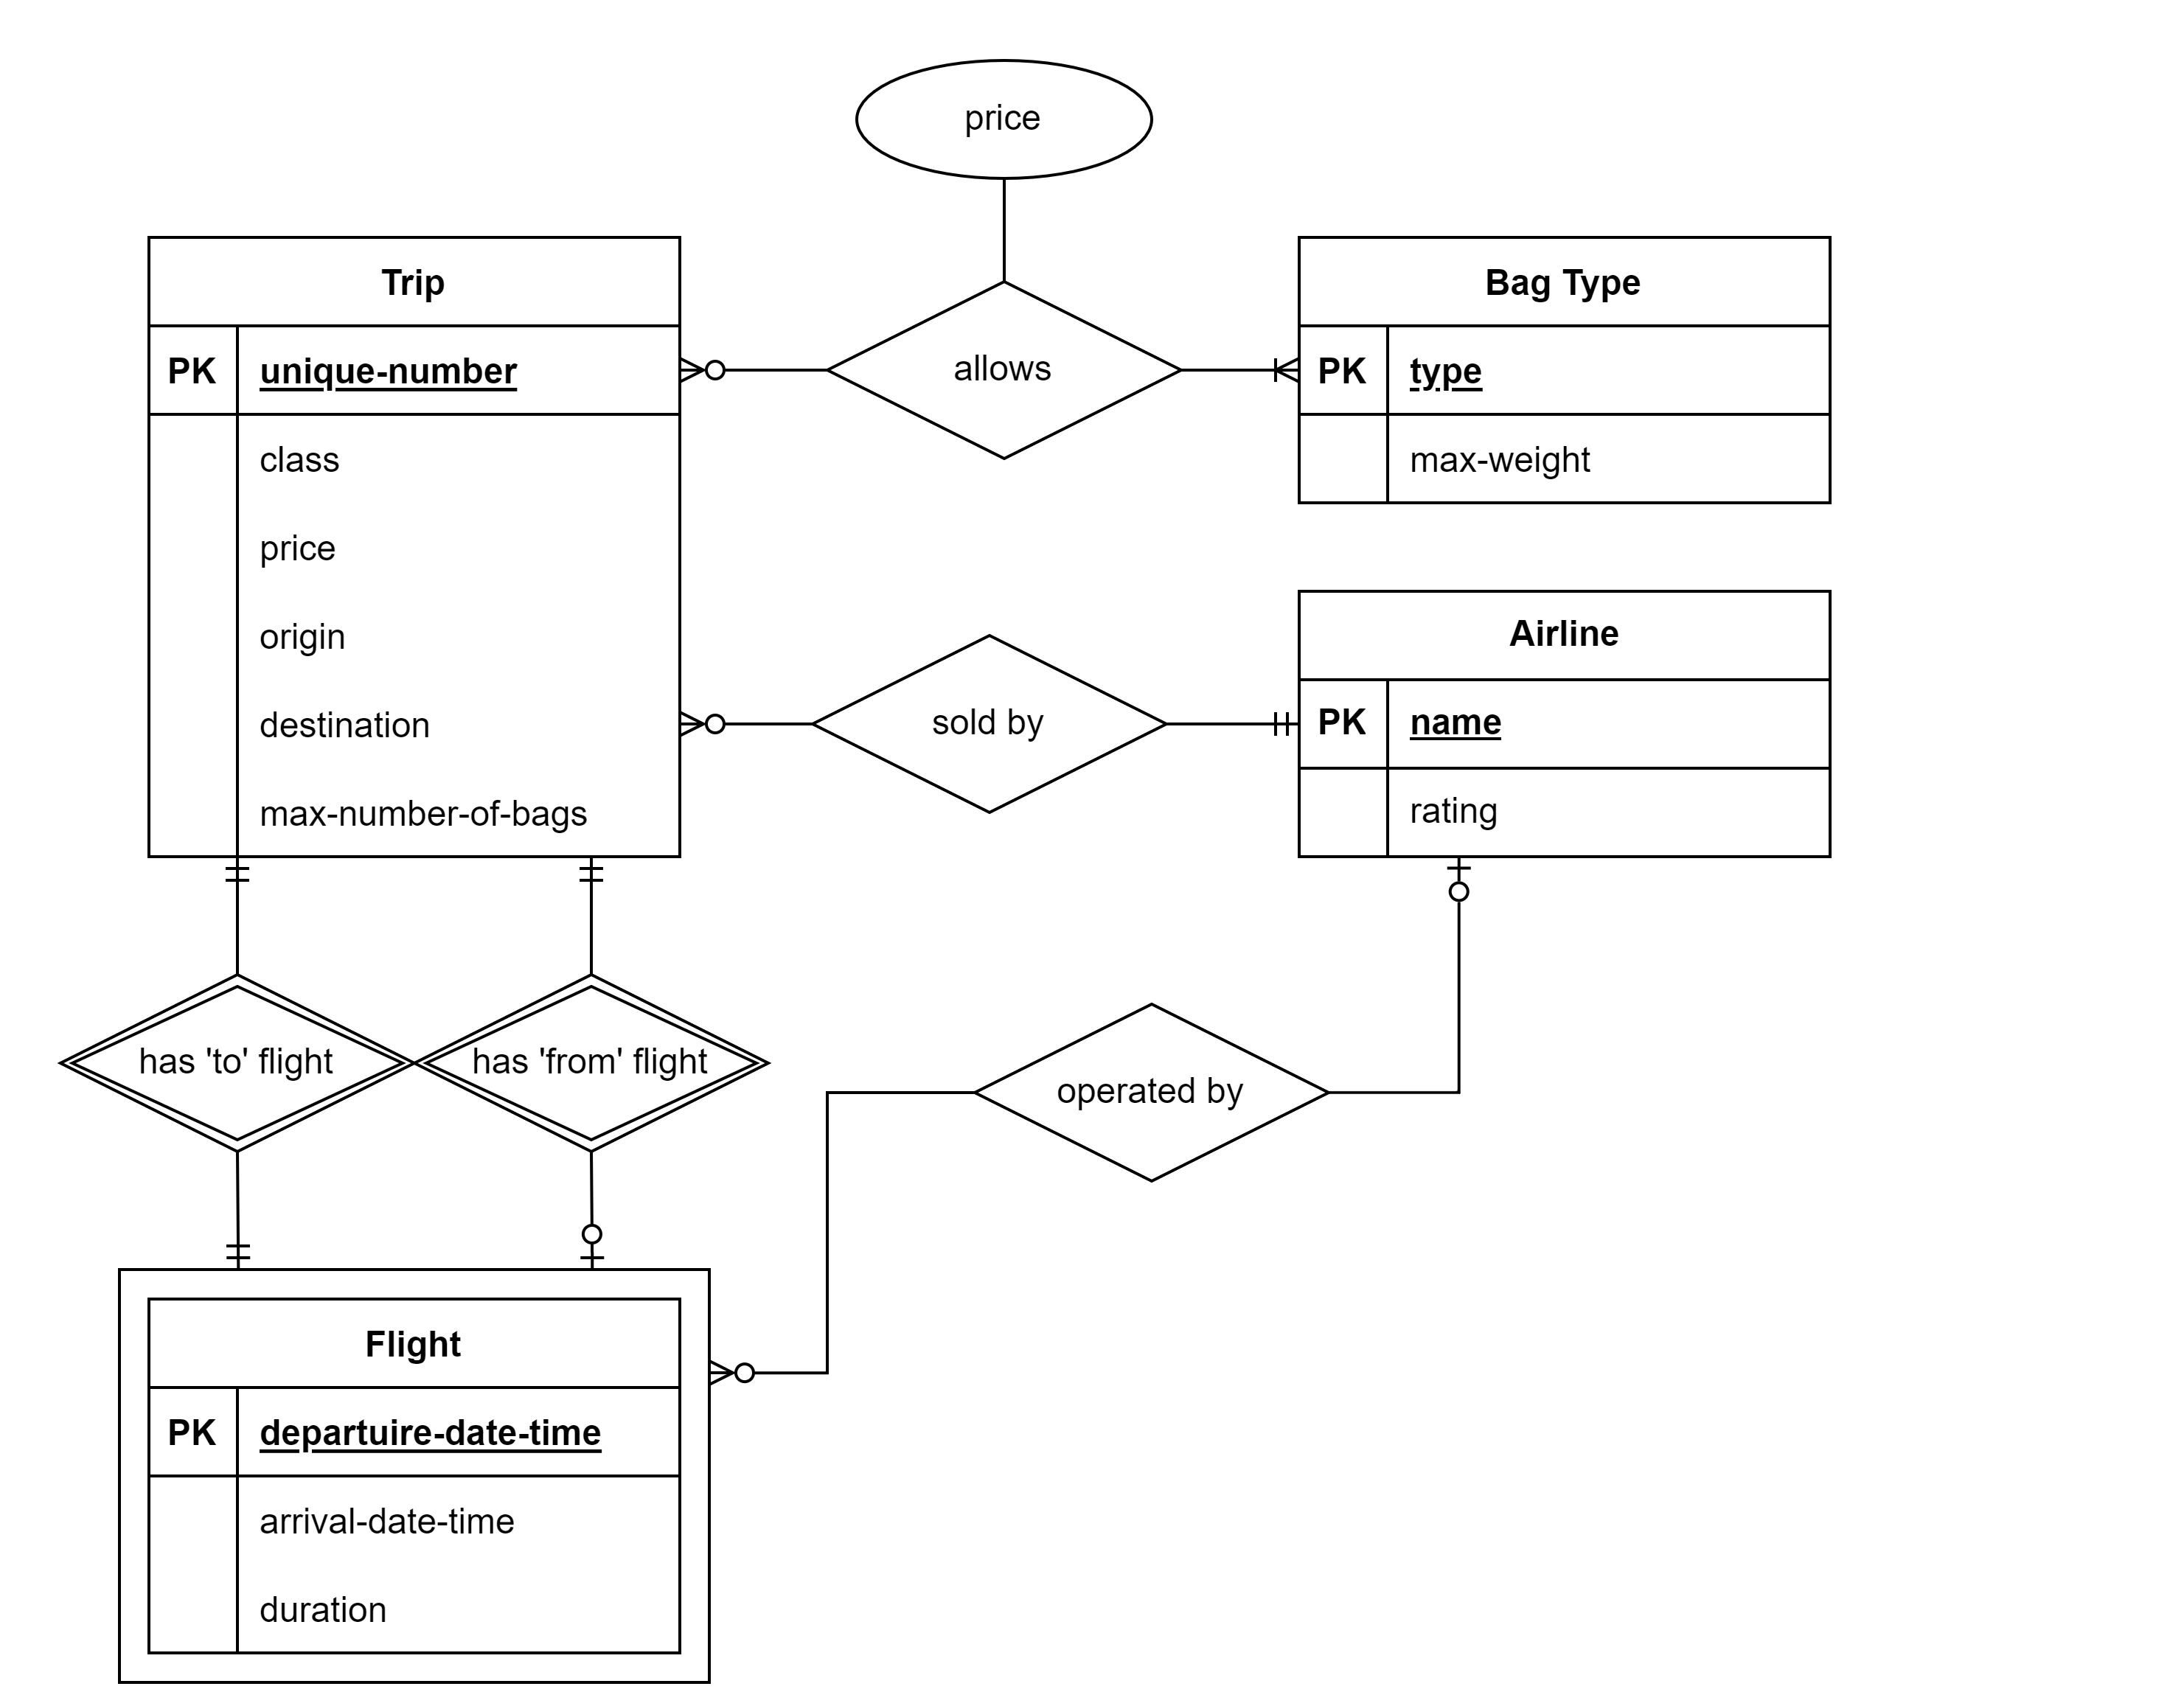entity: (149, 241, 684, 858), (1301, 587, 1833, 862), (1298, 238, 1829, 500)
ident_rel: (420, 975, 769, 1153), (64, 981, 420, 1144)
many: (677, 348, 828, 394), (1179, 348, 1299, 394), (677, 708, 812, 740), (707, 1355, 824, 1385)
one: (1443, 858, 1478, 1092), (209, 857, 257, 975), (1166, 706, 1296, 747), (569, 857, 610, 975), (574, 1154, 613, 1273), (220, 1147, 253, 1266)
rel: (815, 633, 1161, 810), (831, 280, 1174, 459), (979, 1004, 1322, 1179)
rel_attr: (853, 57, 1158, 179)
weak_entity: (119, 1270, 713, 1683)
